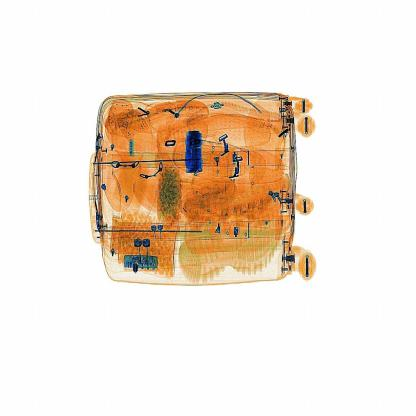scissors: (178, 123, 212, 177)
